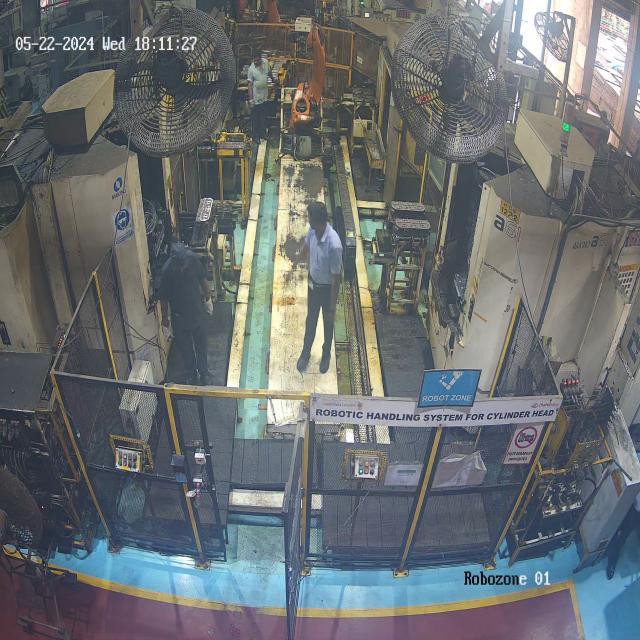person: (148, 240, 217, 397), (294, 200, 353, 369), (250, 44, 274, 150)
